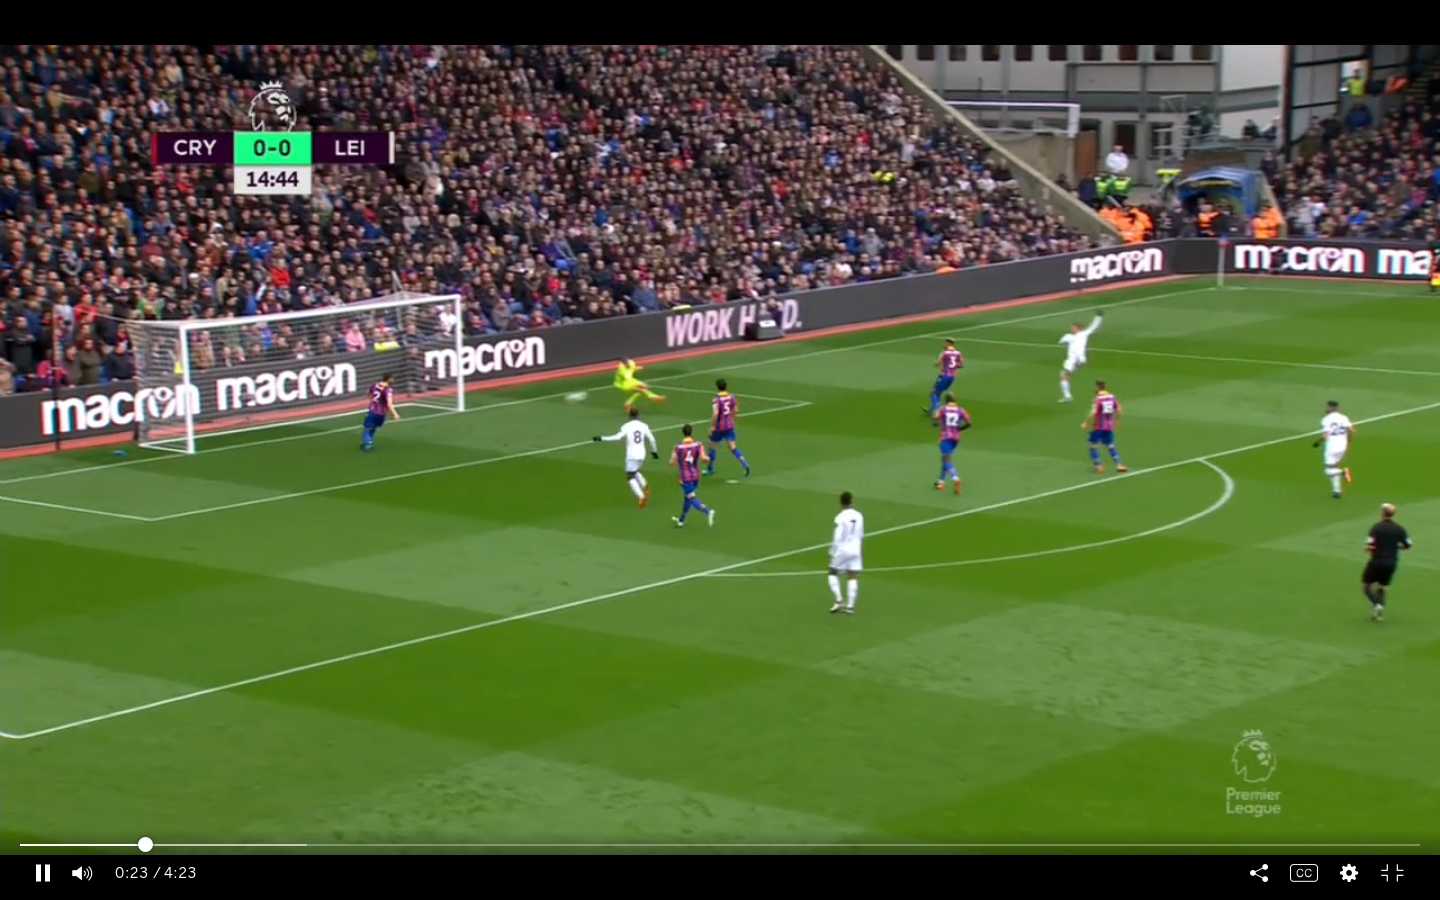referee: (1358, 496, 1418, 629)
soccer player: (821, 486, 872, 617), (1075, 379, 1141, 476), (599, 409, 661, 508), (1048, 305, 1107, 403), (668, 420, 713, 534), (1310, 397, 1358, 502), (935, 386, 972, 500), (712, 374, 750, 476), (359, 372, 404, 454), (924, 336, 968, 419), (610, 354, 656, 414)
soccerball: (564, 382, 588, 411)
